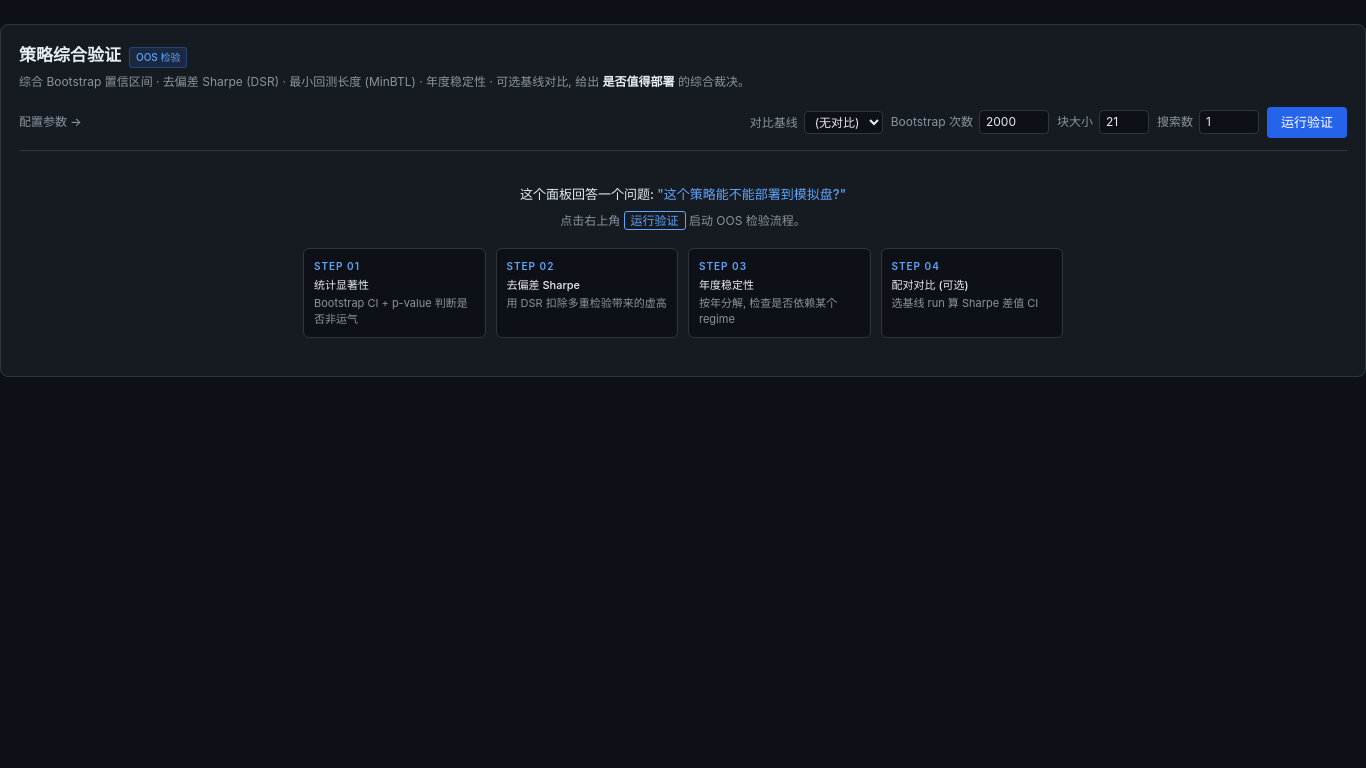
ValidationPanel - ComparisonSection sign branch (V2.23.2 I7) › "显著差于基线" shown when sharpe_diff < 0 and significant (prior bug)
This screenshot has width=1366, height=768.
What coordinates should you click on to do the following:
click the button "运行验证"
I would click on:
 (1307, 122)
Its box is [1267,106,1347,138].
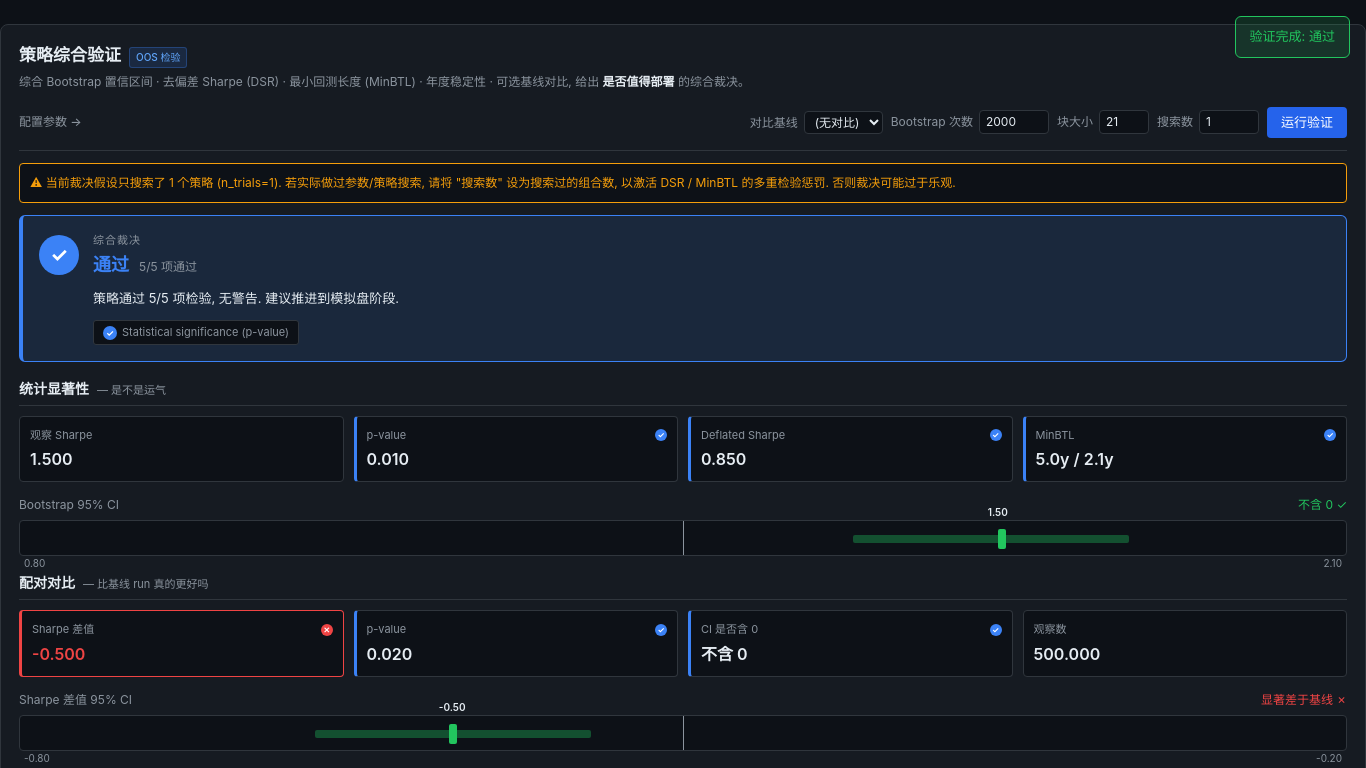
Now the text "显著差于基线 ✗" is shown, box [1261,691,1347,709]
